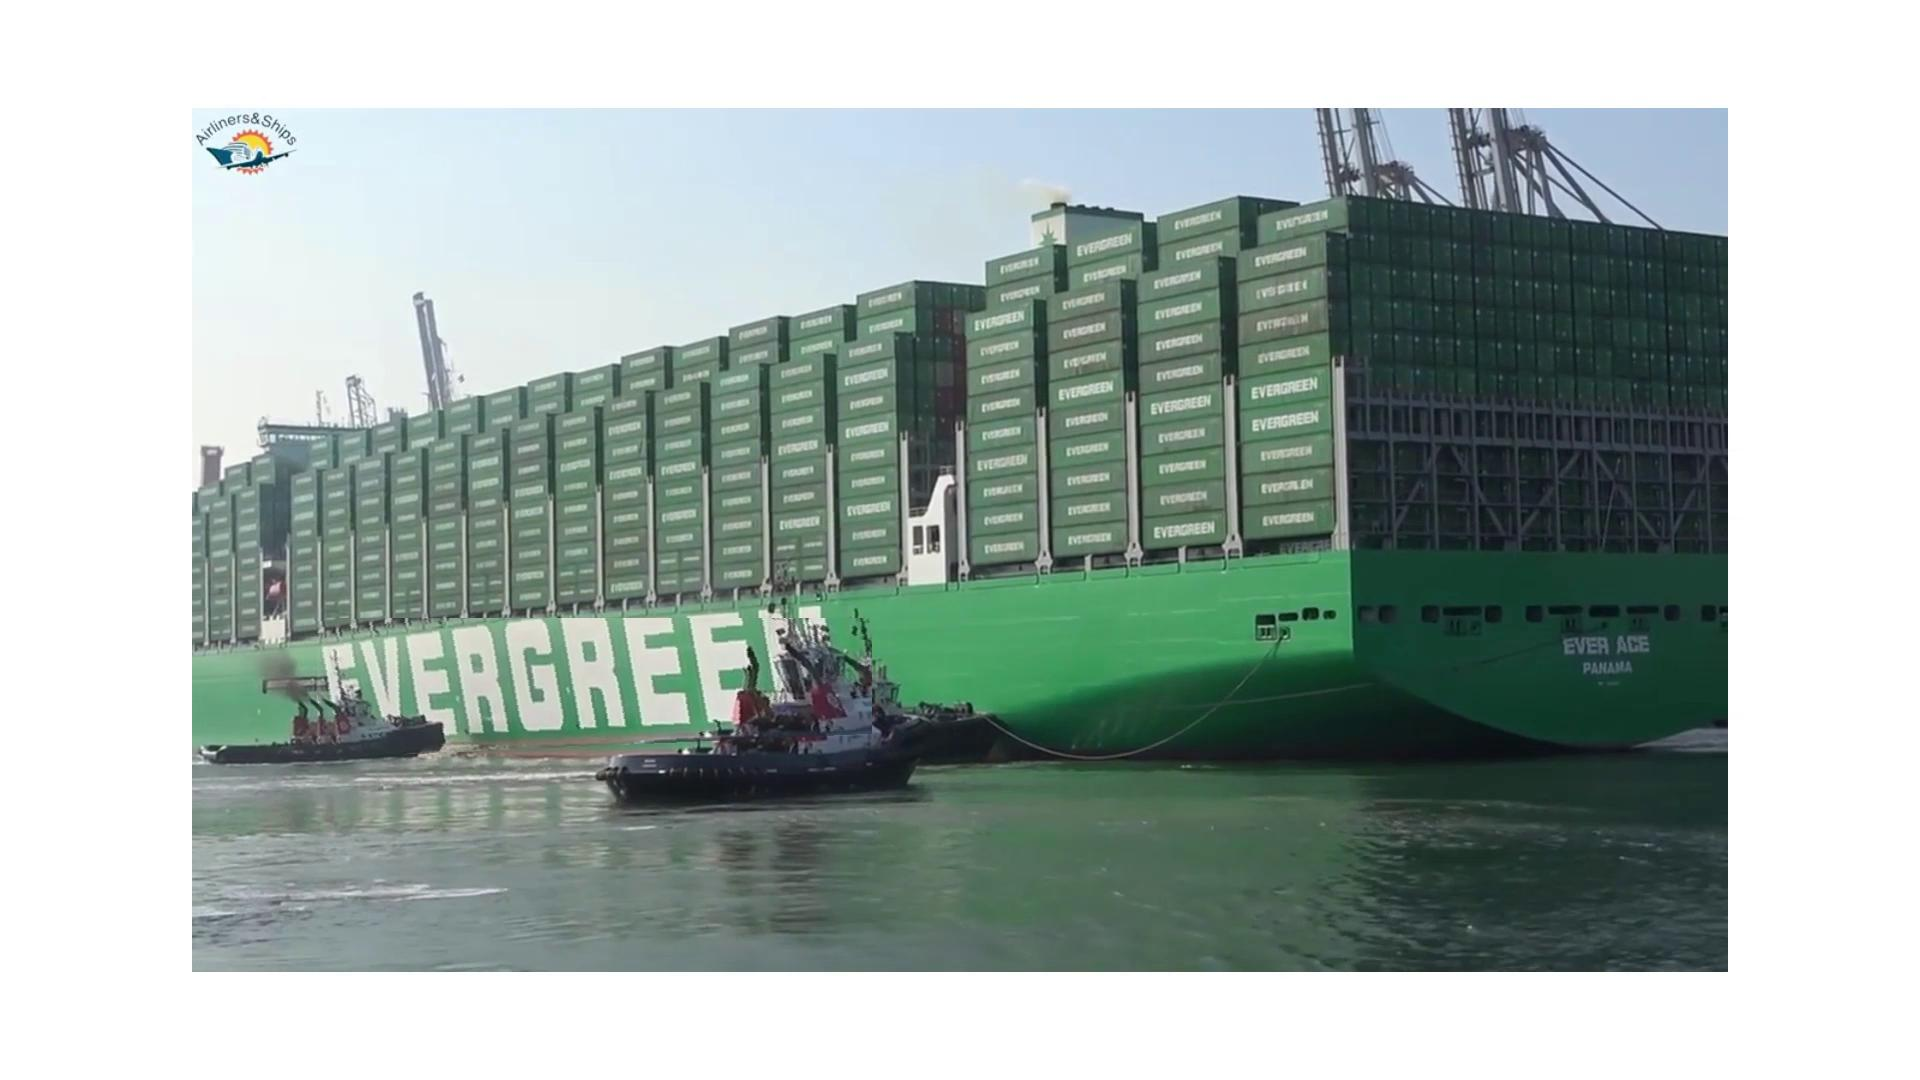OCR: (305, 618, 872, 758), (1551, 621, 1676, 704)
